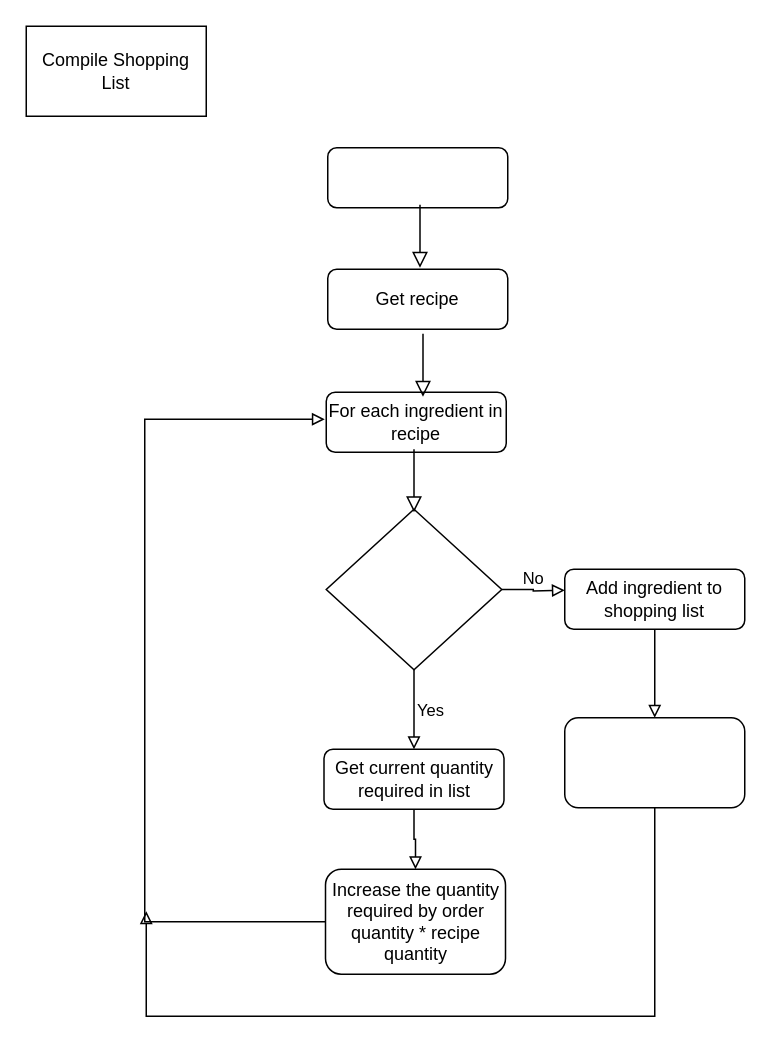
Image size: 771x1055. Some labels were removed from this diagram. The shapes that lost their labels are listed below. From the top down, each one's centre as x and y in pixels, then its label:
At point (417, 177): "For each order in order list".
At point (413, 589): "Is ingredient already in shopping list?".
At point (654, 762): "Set quantity required to order quantity * recipe quantity".
